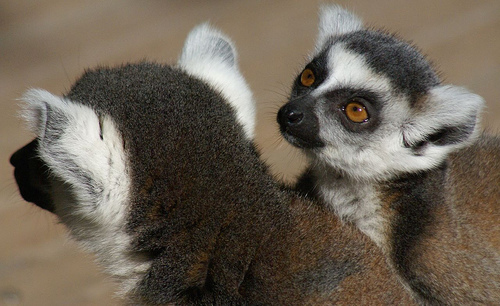cat: (4, 24, 417, 305), (269, 0, 496, 303)
